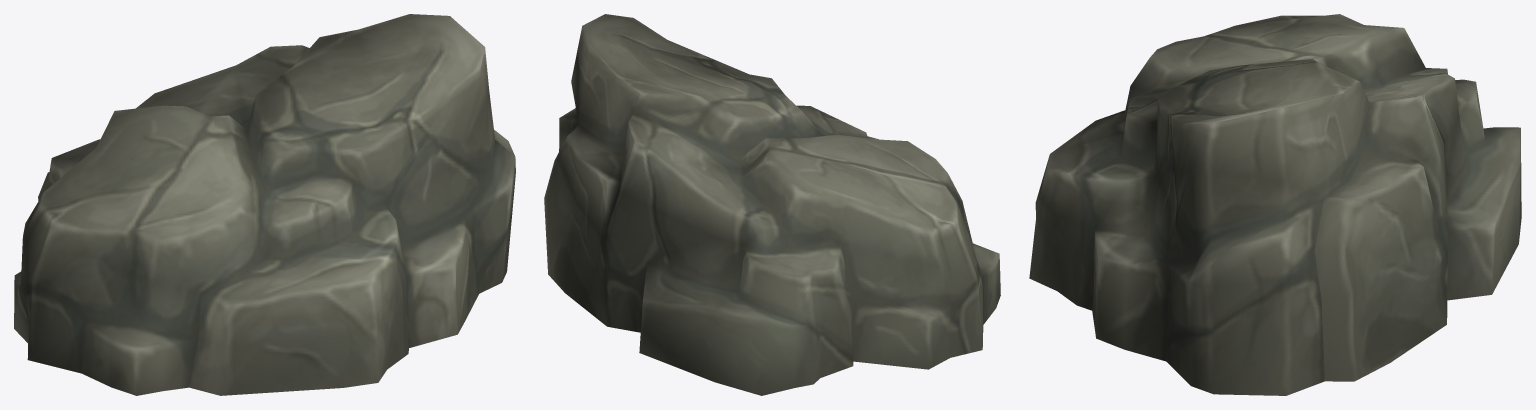
File: forget_Stone08.FBX
The picture shows the model from 3 angles, left to right: view 1: azimuth 30°, elevation 25°; view 2: azimuth 150°, elevation 25°; view 3: azimuth 270°, elevation 25°; orthographic projection. The views are drawn at different scales.
Visible parts, largest first — view 1: forget_Stone08; view 2: forget_Stone08; view 3: forget_Stone08.
Boxes of the visible parts, x1,y1,x2,y2 form: forget_Stone08: [14, 14, 515, 395]; forget_Stone08: [544, 14, 1000, 395]; forget_Stone08: [1029, 14, 1521, 395].
Size of the model in its own units: 381 by 192 by 315.
